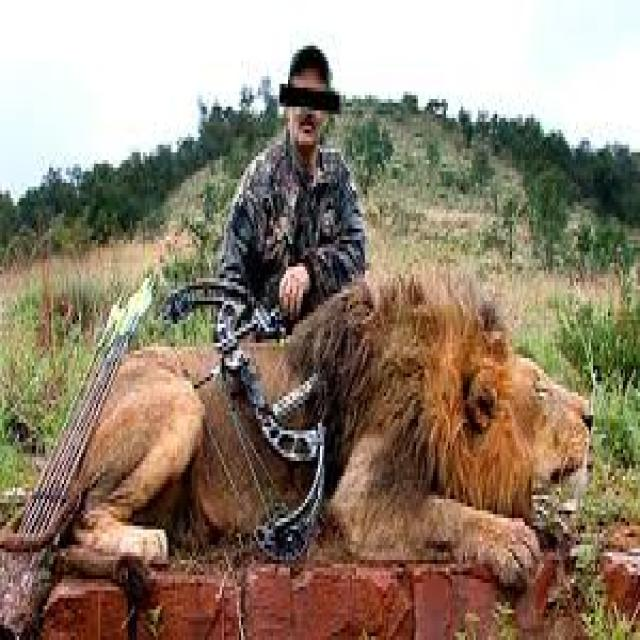Lion: (321, 278, 594, 585)
